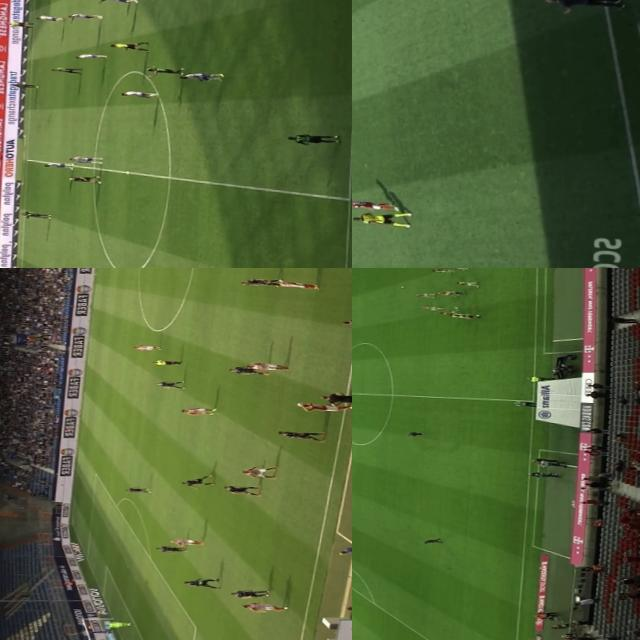ball: (291, 399, 305, 408), (398, 284, 408, 288), (452, 306, 460, 310)
player: (286, 132, 342, 147), (273, 429, 326, 443), (352, 212, 408, 225), (181, 68, 220, 82), (225, 482, 260, 497), (352, 199, 397, 210), (241, 602, 287, 612), (120, 88, 158, 100), (249, 360, 287, 372), (302, 400, 346, 410), (145, 64, 178, 77), (228, 364, 266, 375), (242, 466, 276, 478), (68, 154, 104, 165), (165, 536, 201, 547), (180, 578, 216, 589), (243, 276, 280, 286), (153, 544, 190, 554), (180, 477, 216, 487), (227, 588, 270, 596), (41, 159, 73, 169), (181, 406, 210, 416), (132, 342, 158, 353), (124, 484, 152, 494), (50, 66, 84, 74), (280, 279, 314, 287), (74, 51, 106, 59), (103, 620, 135, 628), (70, 11, 100, 19), (22, 212, 52, 220), (160, 382, 186, 391), (13, 80, 40, 88), (454, 280, 479, 288), (36, 15, 62, 22), (434, 289, 454, 296), (421, 304, 441, 311), (429, 268, 455, 273), (438, 309, 458, 315), (446, 290, 466, 296), (411, 293, 433, 298), (458, 314, 482, 318), (450, 313, 468, 318), (95, 0, 139, 2), (444, 268, 468, 270)
